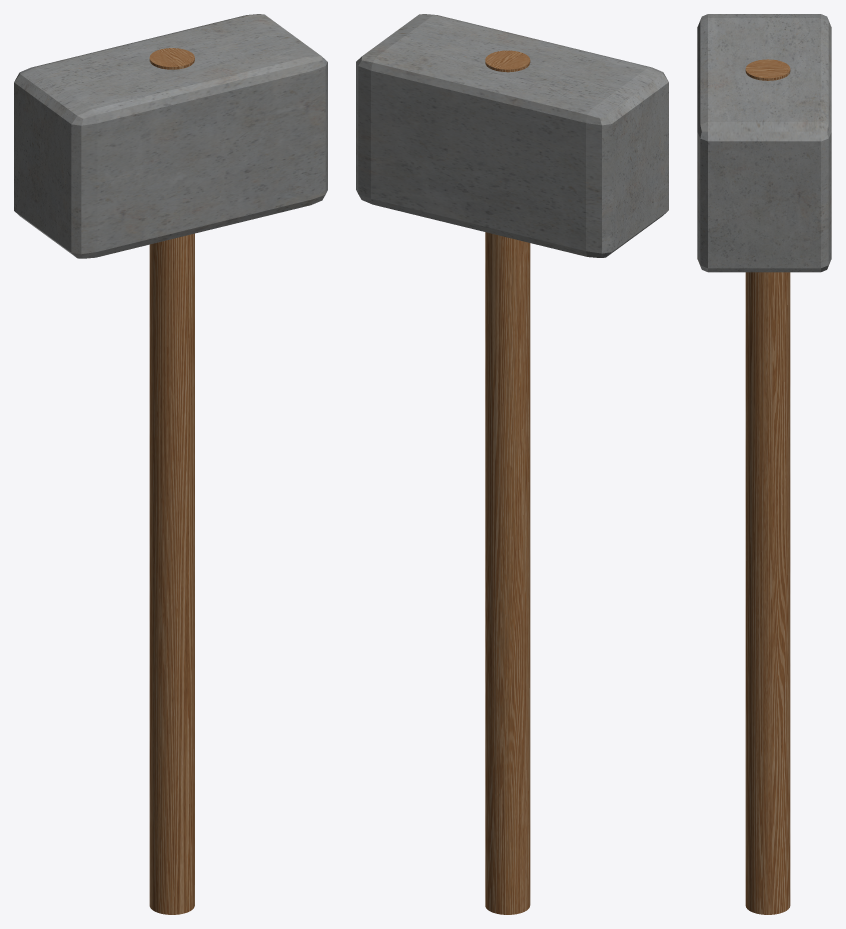
Rendered from Hammer.glb.
3 renders of one model, left to right at view 1: azimuth 30°, elevation 25°; view 2: azimuth 150°, elevation 25°; view 3: azimuth 270°, elevation 25°, orthographic.
Visible parts, largest first — view 1: Hammer Head, Hammer Handle; view 2: Hammer Head, Hammer Handle; view 3: Hammer Head, Hammer Handle.
Boxes of the visible parts, x1=… form: Hammer Head: x1=14, y1=14, x2=327, y2=258; Hammer Handle: x1=149, y1=48, x2=194, y2=914; Hammer Head: x1=356, y1=14, x2=668, y2=257; Hammer Handle: x1=485, y1=50, x2=530, y2=914; Hammer Head: x1=697, y1=14, x2=831, y2=272; Hammer Handle: x1=745, y1=59, x2=790, y2=914.
Bounding box in the file's own units: 0.2894 × 0.9143 × 0.1333.
2 materials, 2 textured.
